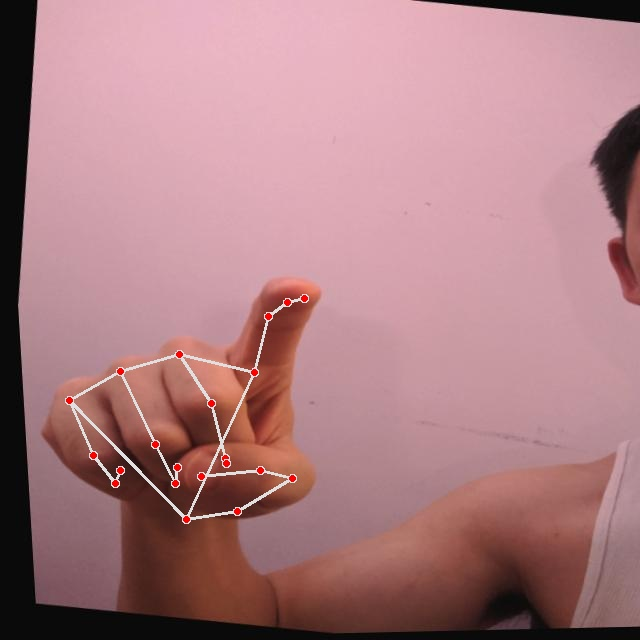Z: (14, 242, 344, 540)
